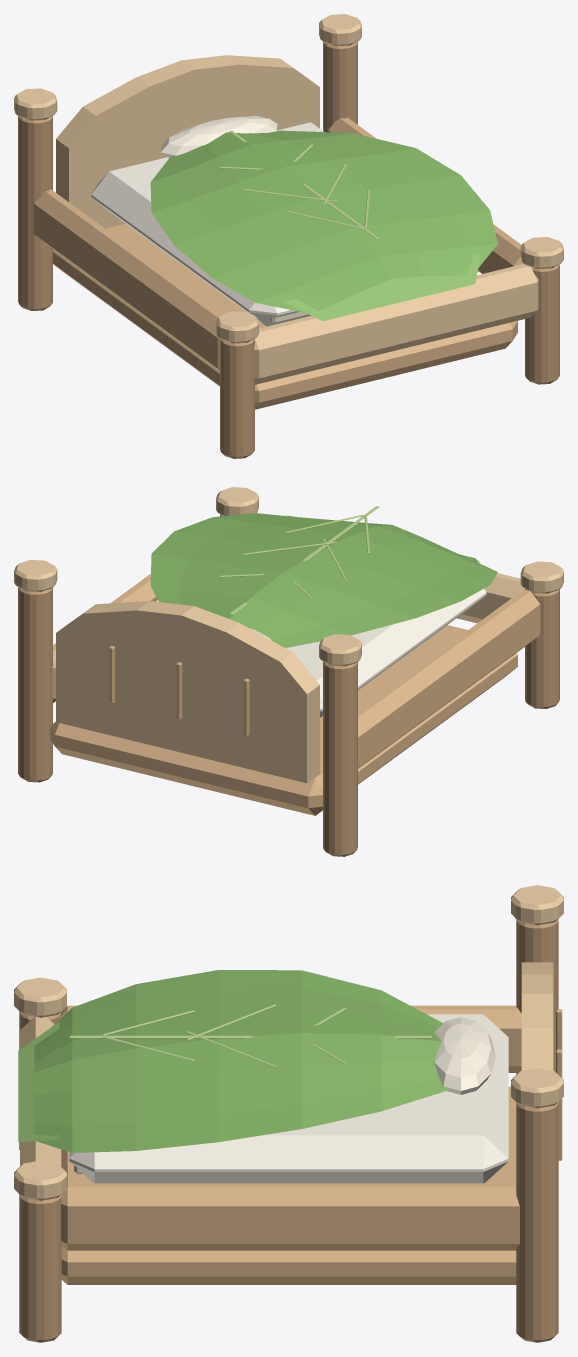
The picture shows the model from 3 angles, top to bottom: view 1: azimuth 30°, elevation 25°; view 2: azimuth 150°, elevation 25°; view 3: azimuth 270°, elevation 25°; orthographic projection. The views are drawn at different scales.
Parts seen in each view (by area): view 1: single_soft_puffy_leaf_blanket, lower_rounded_honey_headboard, soft_front_rail, compact_rounded_wood_base, left_rounded_rail, back_left_short_post, clean_warm_cream_mattress, front_left_short_post, front_right_short_post, rounded_leaf_front_blanket_lip, back_right_short_post, simple_rounded_cream_pillow (+5 smaller); view 2: lower_rounded_honey_headboard, single_soft_puffy_leaf_blanket, compact_rounded_wood_base, left_rounded_rail, back_left_short_post, back_right_short_post, clean_warm_cream_mattress, front_left_short_post, soft_front_rail, front_left_short_post_soft_honey_cap, back_right_short_post_soft_honey_cap, back_left_short_post_soft_honey_cap (+2 smaller); view 3: single_soft_puffy_leaf_blanket, right_rounded_rail, clean_warm_cream_mattress, compact_rounded_wood_base, back_right_short_post, front_right_short_post, simple_rounded_cream_pillow, lower_rounded_honey_headboard, back_left_short_post, left_rounded_rail, rounded_leaf_front_blanket_lip, back_right_short_post_soft_honey_cap (+5 smaller).
Boxes of the visible parts, x1,y1,x2,y2 form: single_soft_puffy_leaf_blanket: (150,130,497,312); lower_rounded_honey_headboard: (56,55,319,228); soft_front_rail: (254,264,538,384); compact_rounded_wood_base: (53,224,517,409); left_rounded_rail: (33,189,222,370); back_left_short_post: (18,116,52,310); clean_warm_cream_mattress: (91,122,323,326); front_left_short_post: (220,338,254,458); front_right_short_post: (525,264,559,384); rounded_leaf_front_blanket_lip: (284,253,480,321); back_right_short_post: (323,41,357,132); simple_rounded_cream_pillow: (161,116,277,157); lower_rounded_honey_headboard: (56,601,319,783); single_soft_puffy_leaf_blanket: (150,513,497,647); compact_rounded_wood_base: (50,625,517,815); left_rounded_rail: (358,589,540,768); back_left_short_post: (323,661,357,856); back_right_short_post: (18,587,52,782); clean_warm_cream_mattress: (156,588,486,717); front_left_short_post: (525,589,559,708); soft_front_rail: (457,573,524,623); front_left_short_post_soft_honey_cap: (520,561,563,593); back_right_short_post_soft_honey_cap: (14,559,57,591); back_left_short_post_soft_honey_cap: (319,634,361,666); single_soft_puffy_leaf_blanket: (34,970,449,1152); right_rounded_rail: (61,1183,519,1250); clean_warm_cream_mattress: (69,1014,508,1183); compact_rounded_wood_base: (61,1086,516,1284); back_right_short_post: (516,1102,558,1342); front_right_short_post: (19,1194,61,1342); simple_rounded_cream_pillow: (434,1017,495,1094); lower_rounded_honey_headboard: (521,962,553,1070); back_left_short_post: (516,919,558,1074); left_rounded_rail: (57,1005,521,1072); rounded_leaf_front_blanket_lip: (18,1021,59,1142); back_right_short_post_soft_honey_cap: (511,1068,563,1108).
Size of the model in its own units: 1.53 by 0.89 by 1.73.
